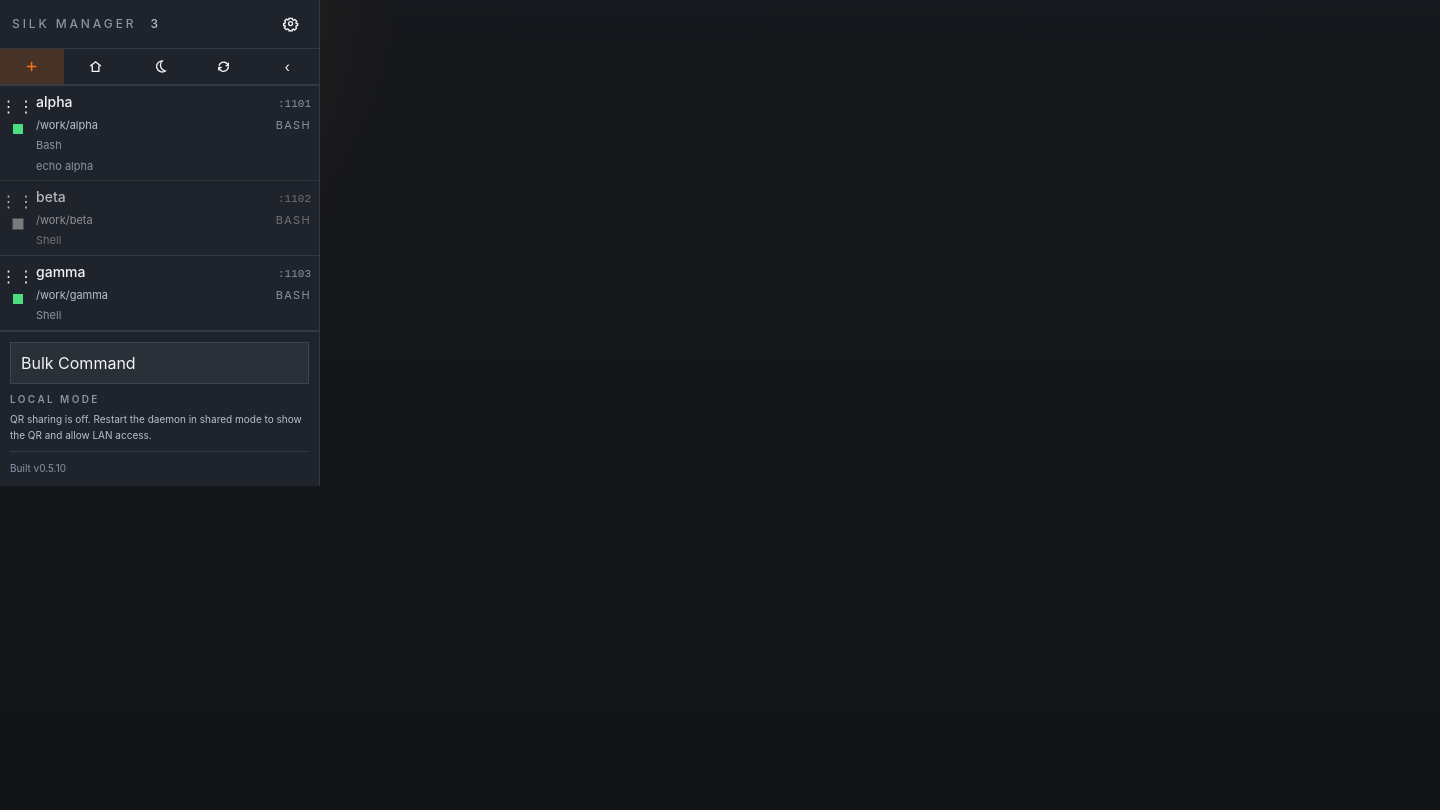
Test: Sidebar › lists shell choices in the new session modal
Click the button titled "Create new session" at coordinates (32, 66), box x1=0 y1=49 x2=64 y2=84
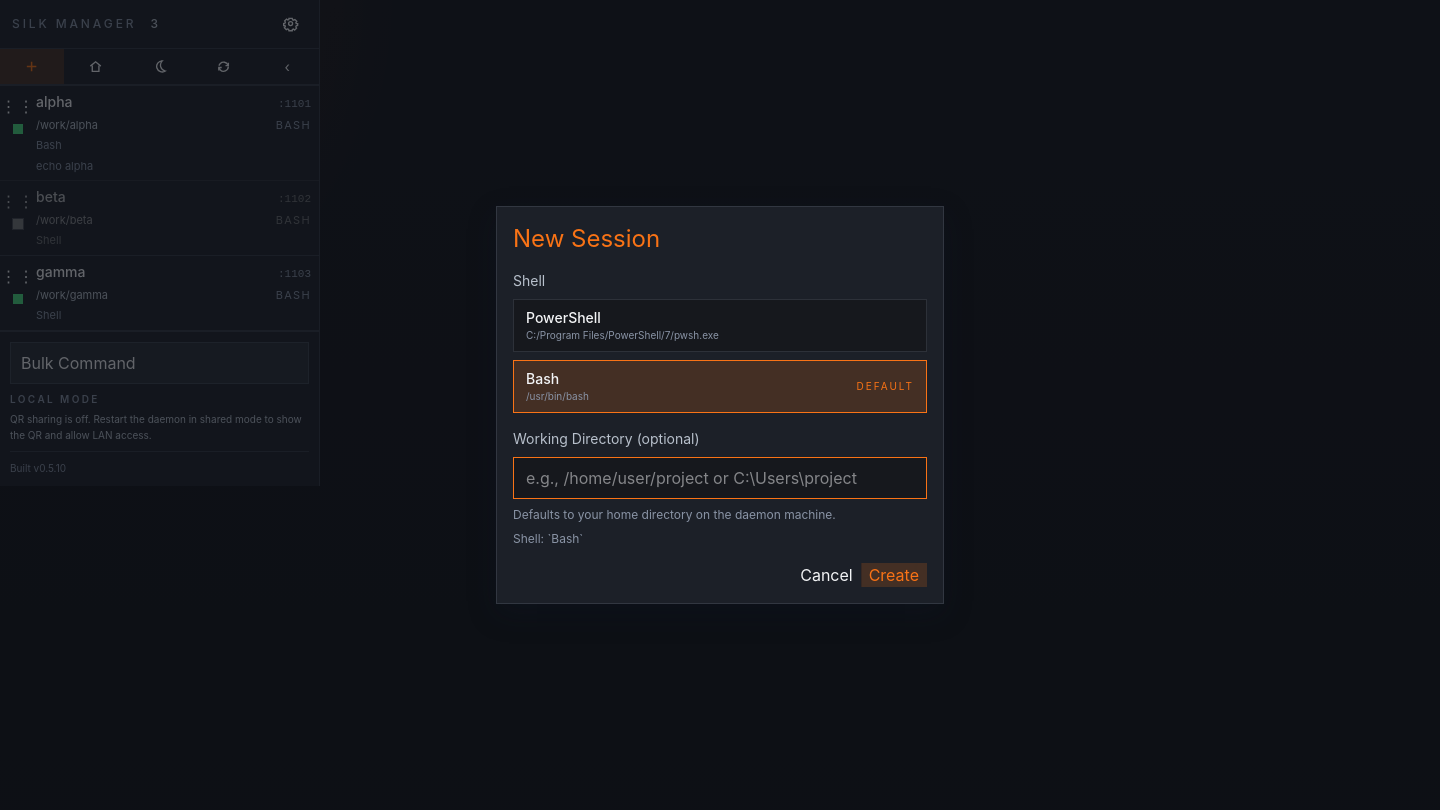
Expected: the text "bash" is shown, x1=276 y1=117 x2=311 y2=133
Expected: the text "PowerShell" is shown, x1=526 y1=309 x2=601 y2=326
Expected: the text "Default" is shown, x1=856 y1=379 x2=914 y2=394
